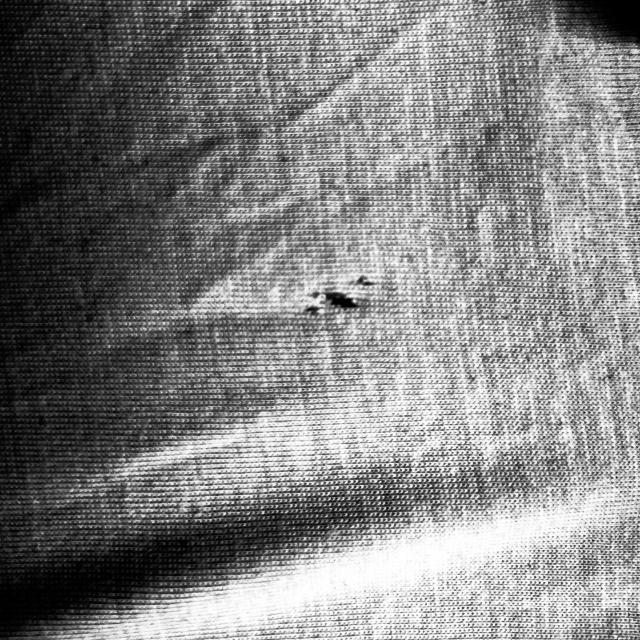Hole: (309, 282, 361, 320)
